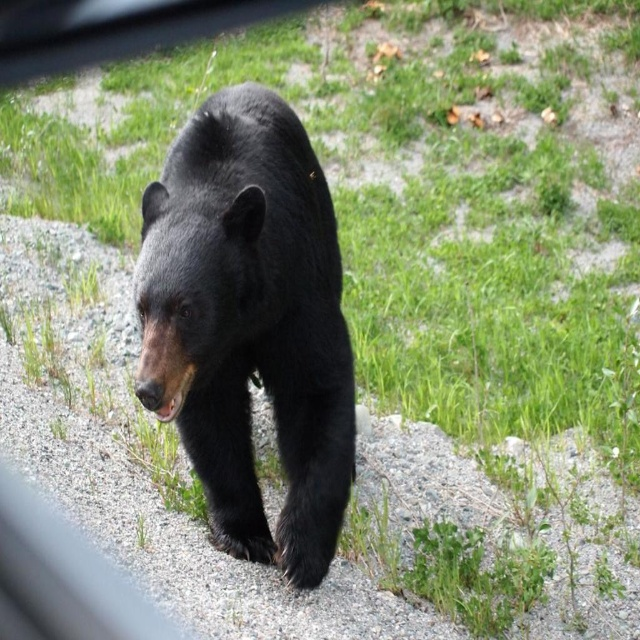Bear: (135, 80, 357, 594)
